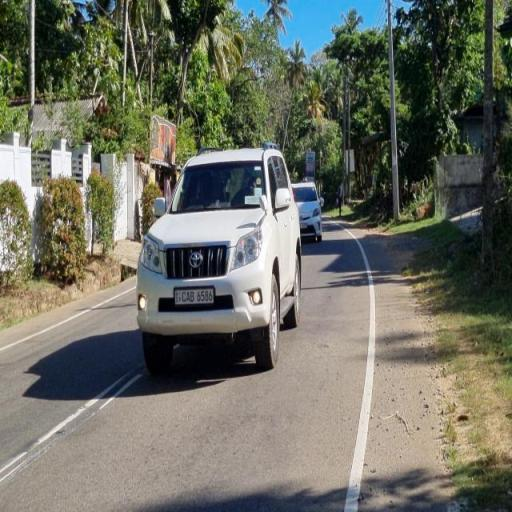double_white_line: (0, 363, 142, 483)
